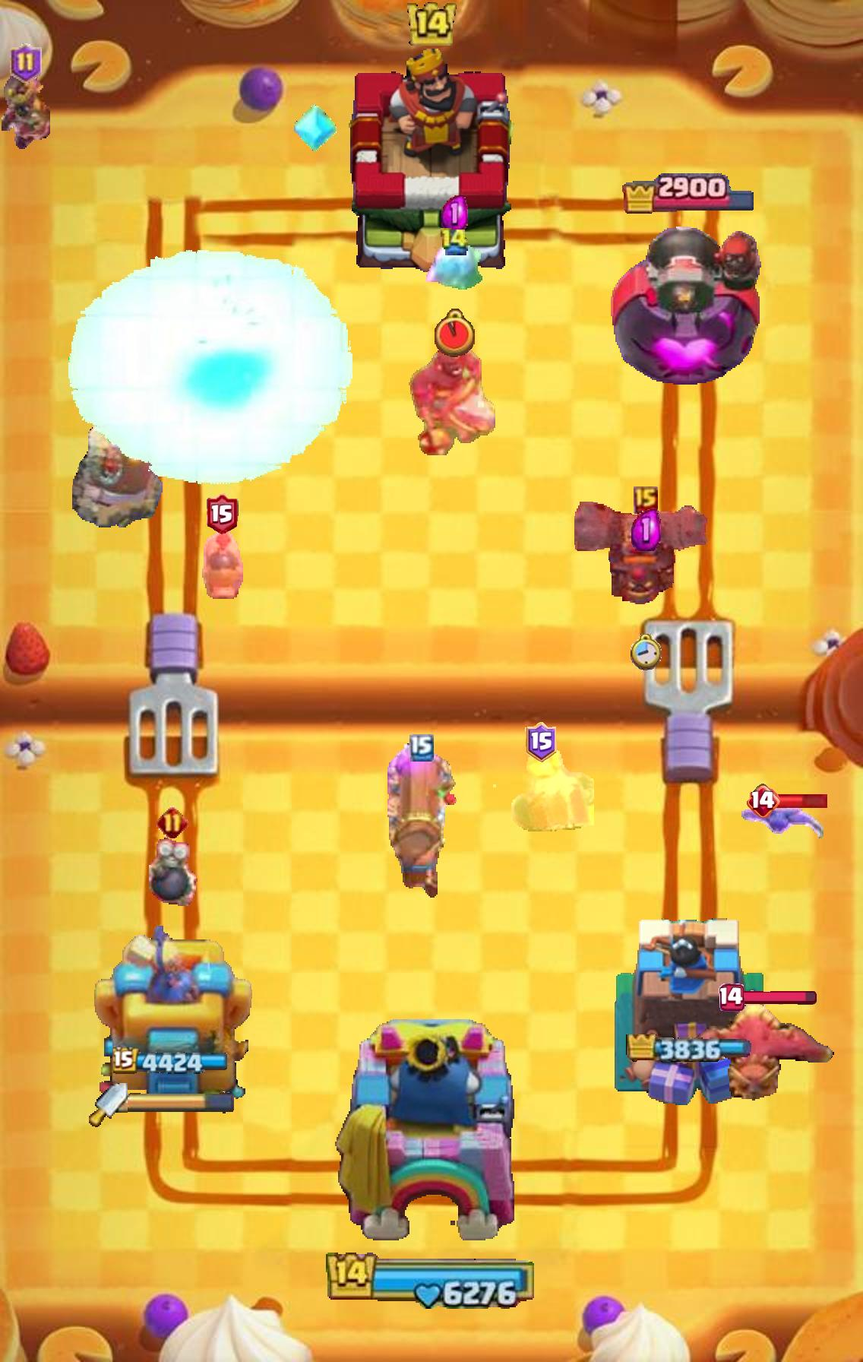elixir: (631, 510, 661, 551), (441, 196, 468, 233)
ice-spirit: (425, 242, 483, 293)
